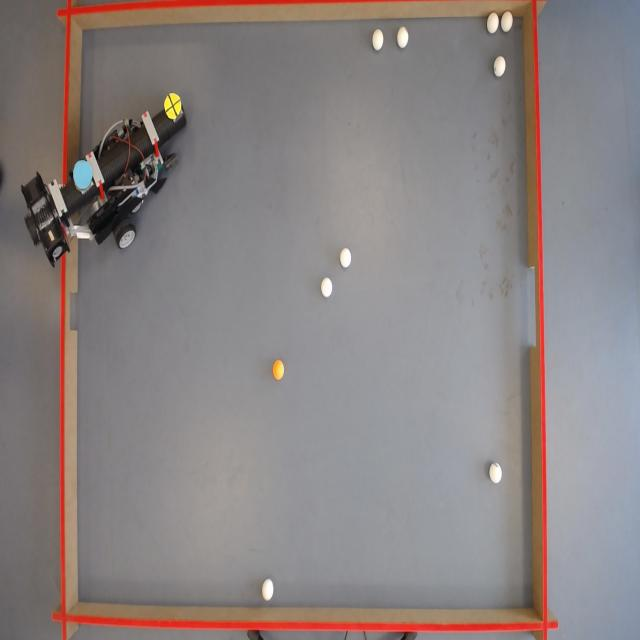orange: (273, 360, 287, 380)
robot: (26, 101, 194, 258)
robot-front: (164, 92, 183, 122)
robot-rear: (72, 158, 94, 192)
white: (262, 579, 277, 603), (372, 30, 386, 51), (494, 56, 507, 78), (487, 14, 500, 35), (490, 463, 503, 483), (321, 277, 333, 298), (501, 11, 513, 31), (340, 248, 352, 268), (396, 28, 408, 48)
